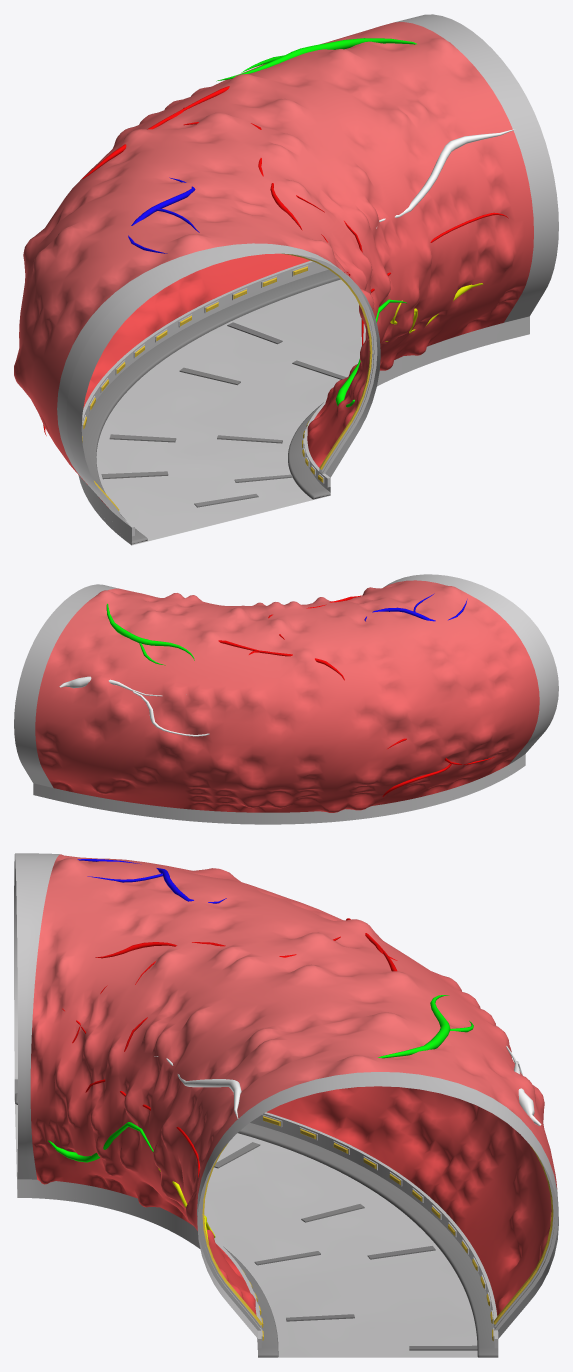
File: Terowongan_1_Kiri.fbx
The picture shows the model from 3 angles, top to bottom: view 1: azimuth 30°, elevation 25°; view 2: azimuth 150°, elevation 25°; view 3: azimuth 270°, elevation 25°; orthographic projection. The views are drawn at different scales.
Visible parts, largest first — view 1: Terowongan 1_Kiri; view 2: Terowongan 1_Kiri; view 3: Terowongan 1_Kiri.
Part boxes in pixels (x1,y1,x2,y2): Terowongan 1_Kiri: (14,14,558,545); Terowongan 1_Kiri: (14,574,558,824); Terowongan 1_Kiri: (14,853,558,1357).
Bounding box in the file's own units: 989 × 450 × 794.
Materials: 4 (4 with a texture image).
